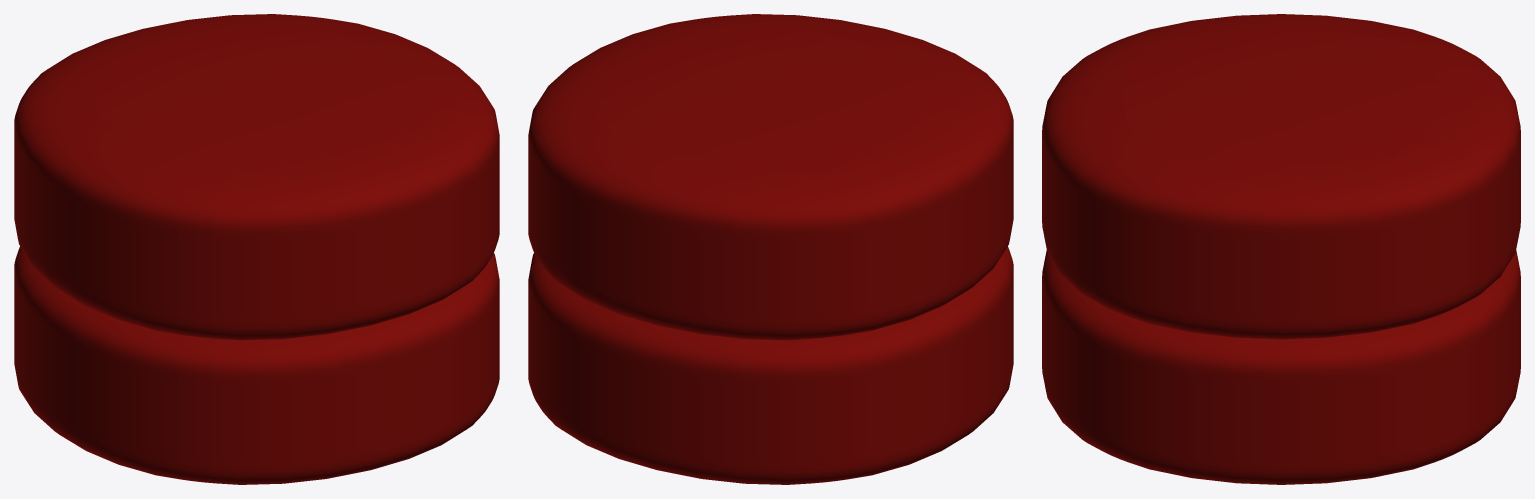
The model's file is headphone.glb.
3 views of the same model, side by side, from view 1: azimuth 30°, elevation 25°; view 2: azimuth 150°, elevation 25°; view 3: azimuth 270°, elevation 25° (orthographic).
Visible parts, largest first — view 1: Cube; view 2: Cube; view 3: Cube.
Boxes of the visible parts, x1,y1,x2,y2 form: Cube: [14, 14, 499, 484]; Cube: [528, 14, 1013, 484]; Cube: [1042, 14, 1520, 484].
Size of the model in its own units: 3.8 by 2.77 by 3.8.
